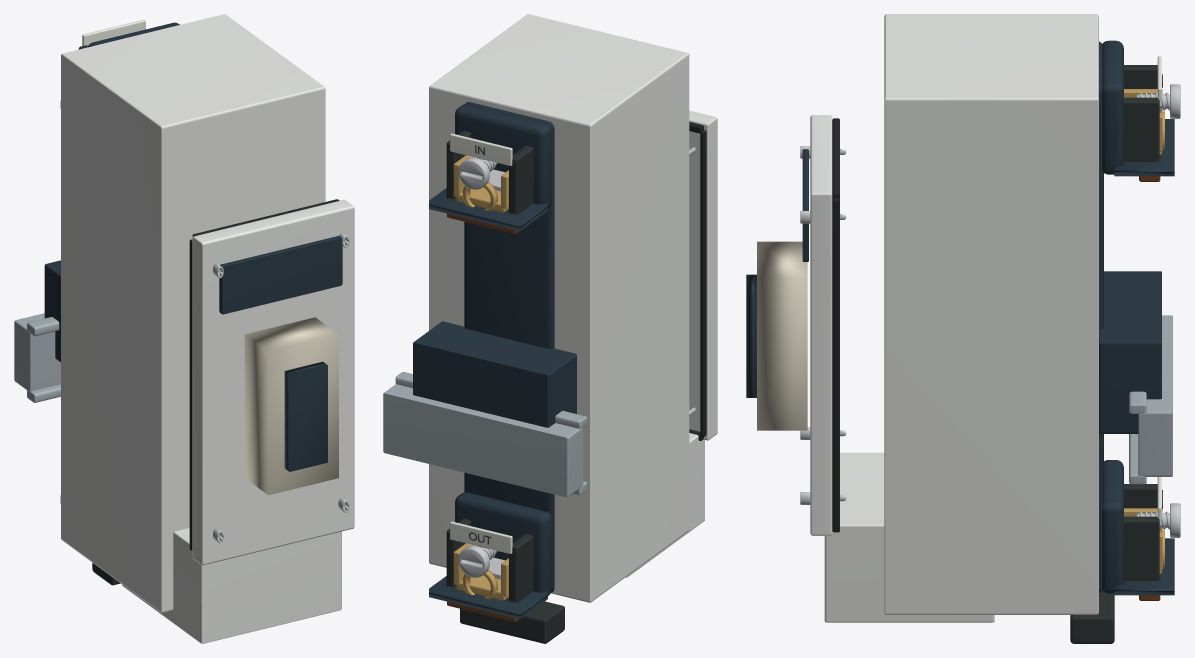
File: fuse_default.glb
3 renders of one model, left to right at view 1: azimuth 30°, elevation 25°; view 2: azimuth 150°, elevation 25°; view 3: azimuth 270°, elevation 25°, orthographic. The views are drawn at different scales.
Parts seen in each view (by area): view 1: part:body · Original 7dbee62c, part:cover, part:fuse, part:mounting · Original 2a8198d3, detail:enclosure-gasket-and-fixings · Detail rubber gasket, part:body, Moulded terminal legend pad, detail:enclosure-gasket-and-fixings · Detail zinc plated fix; view 2: part:body · Original 7dbee62c, part:terminals · Original a463fd81, part:mounting · Original 2a8198d3, part:body, part:cover, DIN spring slider, detail:enclosure-gasket-and-fixings · Detail rubber gasket, detail:terminal-clamp:OUT · Detail moulded engineering polym, detail:terminal-clamp:IN · Detail moulded engineering polyme, detail:terminal-clamp:OUT · Detail machined brass, detail:terminal-clamp:IN · Detail machined brass, Moulded terminal legend pad (+3 smaller); view 3: part:body · Original 7dbee62c, part:fuse, part:cover, part:terminals · Original a463fd81, part:body, part:mounting · Original 2a8198d3, detail:enclosure-gasket-and-fixings · Detail rubber gasket, detail:terminal-clamp:OUT · Detail moulded engineering polym, detail:terminal-clamp:IN · Detail moulded engineering polyme, DIN spring slider, detail:terminal-clamp:IN · Detail zinc plated fixing, detail:enclosure-gasket-and-fixings · Detail zinc plated fix (+1 smaller).
Part boxes in pixels (bbox=[...]): part:body · Original 7dbee62c: bbox=[61, 14, 341, 643]; part:cover: bbox=[192, 199, 354, 565]; part:fuse: bbox=[244, 317, 338, 495]; part:mounting · Original 2a8198d3: bbox=[14, 313, 60, 402]; detail:enclosure-gasket-and-fixings · Detail rubber gasket: bbox=[189, 199, 339, 550]; part:body: bbox=[44, 260, 60, 362]; Moulded terminal legend pad: bbox=[82, 19, 145, 45]; detail:enclosure-gasket-and-fixings · Detail zinc plated fix: bbox=[213, 233, 349, 543]; part:body · Original 7dbee62c: bbox=[429, 14, 704, 602]; part:terminals · Original a463fd81: bbox=[429, 102, 554, 619]; part:mounting · Original 2a8198d3: bbox=[383, 372, 587, 497]; part:body: bbox=[413, 321, 576, 427]; part:cover: bbox=[689, 110, 717, 440]; DIN spring slider: bbox=[460, 601, 564, 643]; detail:enclosure-gasket-and-fixings · Detail rubber gasket: bbox=[689, 122, 706, 440]; detail:terminal-clamp:OUT · Detail moulded engineering polym: bbox=[446, 518, 533, 603]; detail:terminal-clamp:IN · Detail moulded engineering polyme: bbox=[446, 130, 533, 215]; detail:terminal-clamp:OUT · Detail machined brass: bbox=[453, 543, 508, 600]; detail:terminal-clamp:IN · Detail machined brass: bbox=[453, 155, 508, 212]; Moulded terminal legend pad: bbox=[450, 133, 512, 165]; part:body · Original 7dbee62c: bbox=[824, 14, 1098, 622]; part:fuse: bbox=[746, 241, 807, 430]; part:cover: bbox=[802, 115, 832, 535]; part:terminals · Original a463fd81: bbox=[1099, 40, 1174, 595]; part:body: bbox=[1099, 271, 1161, 433]; part:mounting · Original 2a8198d3: bbox=[1129, 315, 1172, 484]; detail:enclosure-gasket-and-fixings · Detail rubber gasket: bbox=[832, 118, 839, 532]; detail:terminal-clamp:OUT · Detail moulded engineering polym: bbox=[1124, 484, 1161, 580]; detail:terminal-clamp:IN · Detail moulded engineering polyme: bbox=[1124, 65, 1161, 161]; DIN spring slider: bbox=[1070, 591, 1114, 643]; detail:terminal-clamp:IN · Detail zinc plated fixing: bbox=[1135, 84, 1180, 118]; detail:enclosure-gasket-and-fixings · Detail zinc plated fix: bbox=[800, 146, 846, 504].
Bounding box in the file's own units: 0.3446 × 0.9324 × 0.6481.
